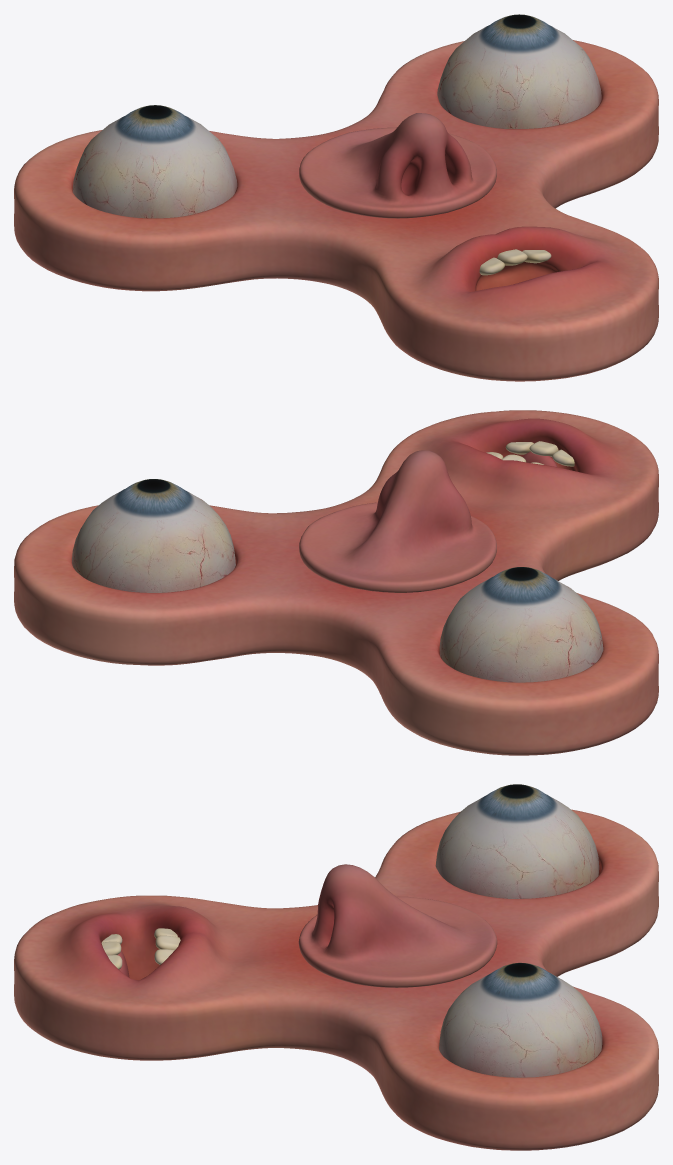
The model's file is LiveSpinner.glb.
The picture shows the model from 3 angles, top to bottom: view 1: azimuth 30°, elevation 25°; view 2: azimuth 150°, elevation 25°; view 3: azimuth 270°, elevation 25°; orthographic projection.
Parts seen in each view (by area): view 1: Body, Nose, right_eye, left_eye, teef; view 2: Body, Nose, left_eye, right_eye, teef; view 3: Body, Nose, right_eye, left_eye, teef.
Part boxes in pixels (x1=…): Body: x1=14, y1=40, x2=658, y2=381; Nose: x1=299, y1=113, x2=496, y2=218; right_eye: x1=437, y1=14, x2=601, y2=128; left_eye: x1=72, y1=105, x2=237, y2=218; teef: x1=479, y1=249, x2=551, y2=275; Body: x1=14, y1=410, x2=658, y2=755; Nose: x1=299, y1=450, x2=496, y2=592; left_eye: x1=439, y1=567, x2=603, y2=682; right_eye: x1=72, y1=479, x2=235, y2=592; teef: x1=486, y1=441, x2=574, y2=466; Body: x1=14, y1=809, x2=658, y2=1150; Nose: x1=298, y1=864, x2=497, y2=987; right_eye: x1=439, y1=962, x2=602, y2=1077; left_eye: x1=435, y1=784, x2=599, y2=898; teef: x1=101, y1=928, x2=180, y2=969.
Size of the model in its own units: 3.17 by 0.8438 by 2.91.
Materials: 5 (5 with a texture image).
